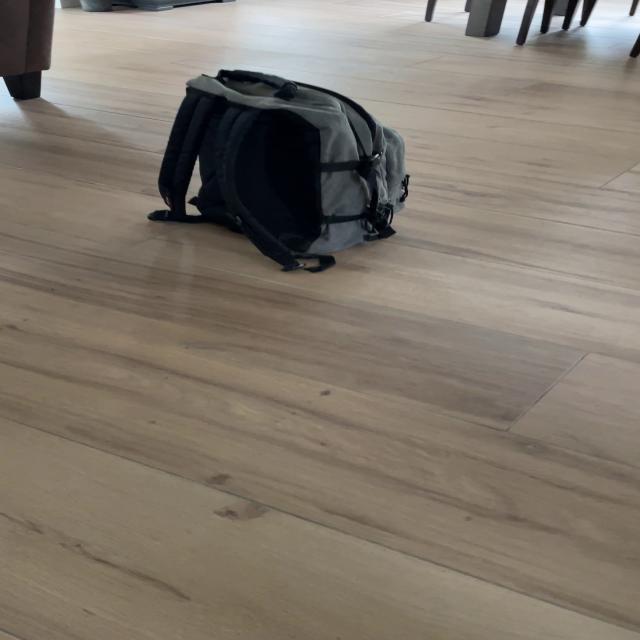backpack: (152, 61, 433, 273)
